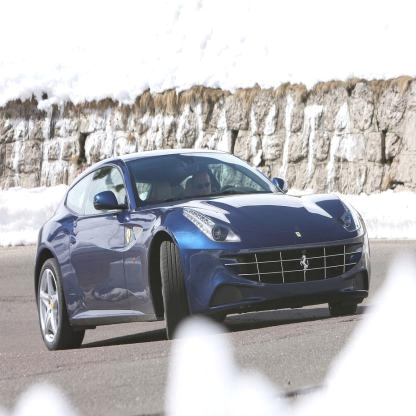Vehicle: (34, 150, 374, 351)
